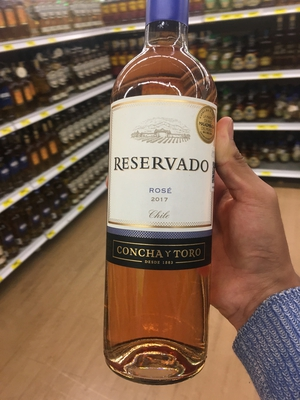reservado rose: (95, 10, 234, 388)
